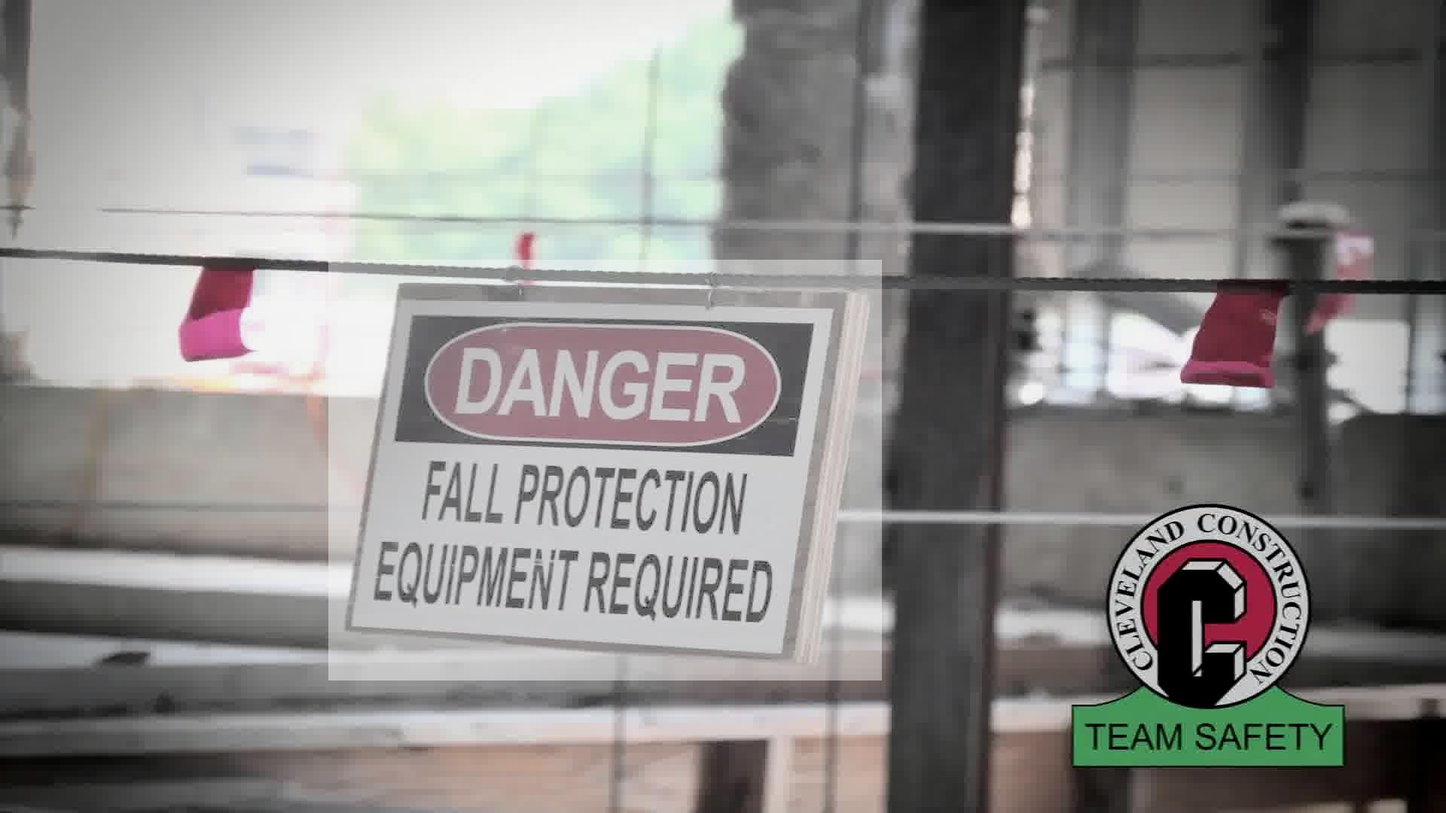safety_signage: (328, 260, 882, 681)
